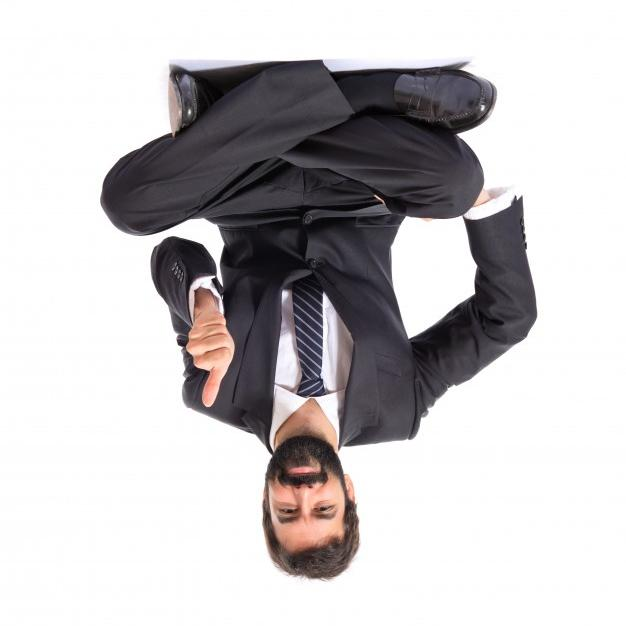thumbsdown: (186, 312, 230, 407)
